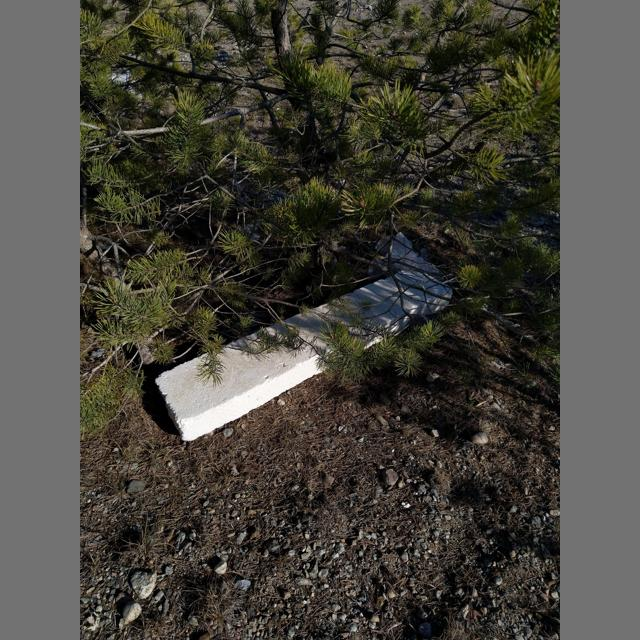litter: (155, 268, 452, 440), (386, 232, 439, 273)
